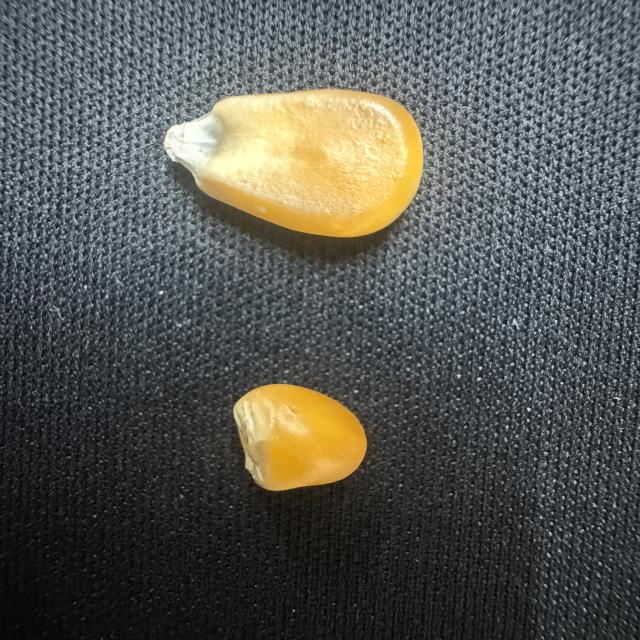Bad-Seed: (229, 380, 371, 495)
Good-Seed: (158, 85, 431, 246)
